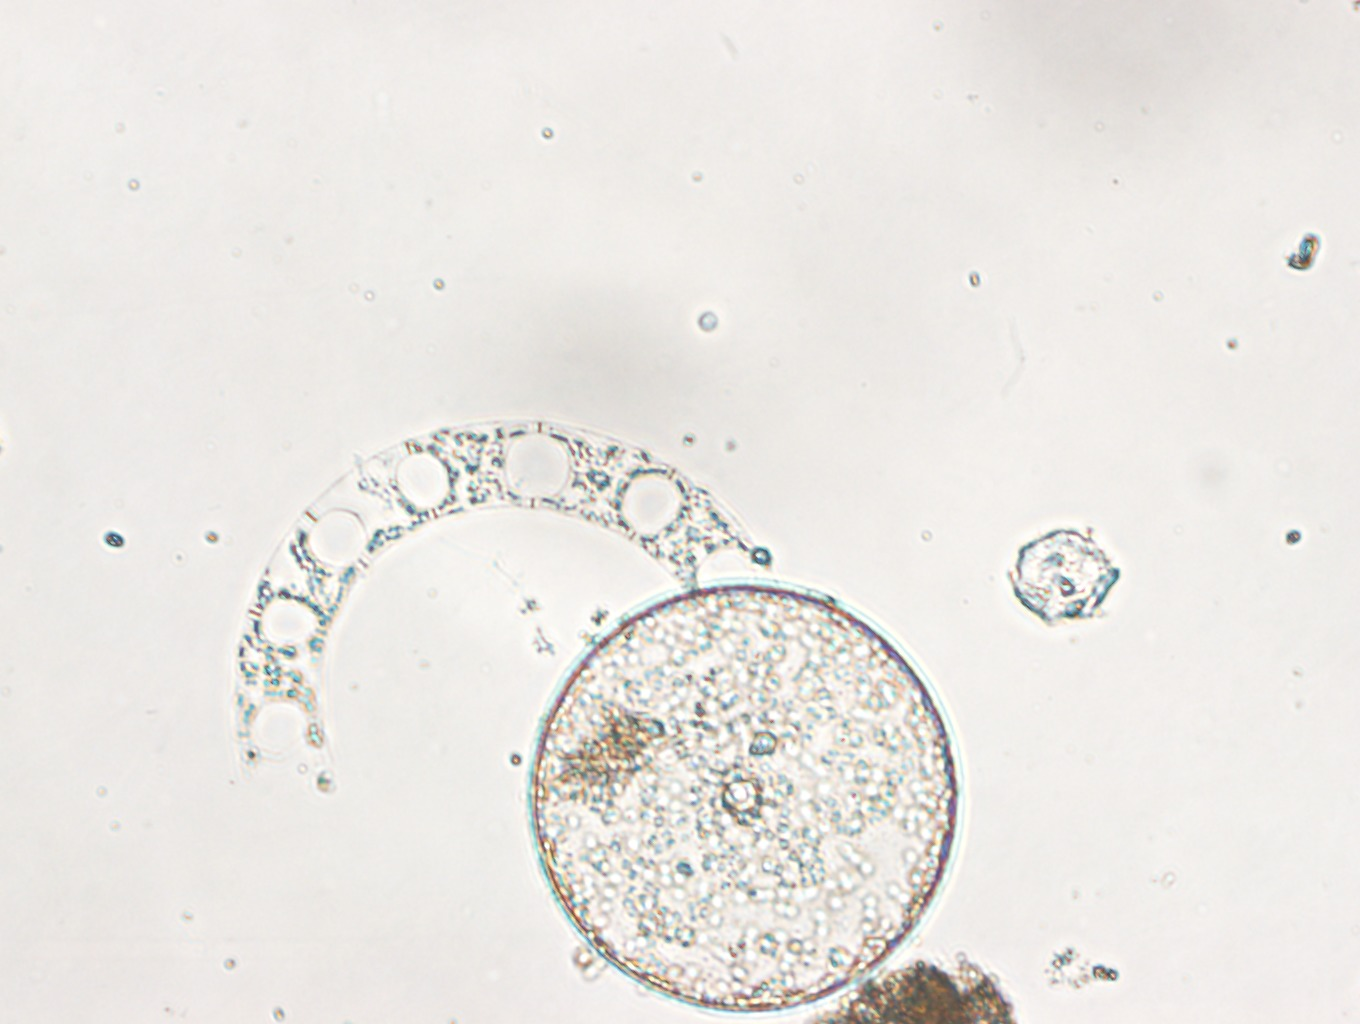coscinodiscus: (532, 581, 955, 1013)
eucampia: (237, 417, 757, 774)
